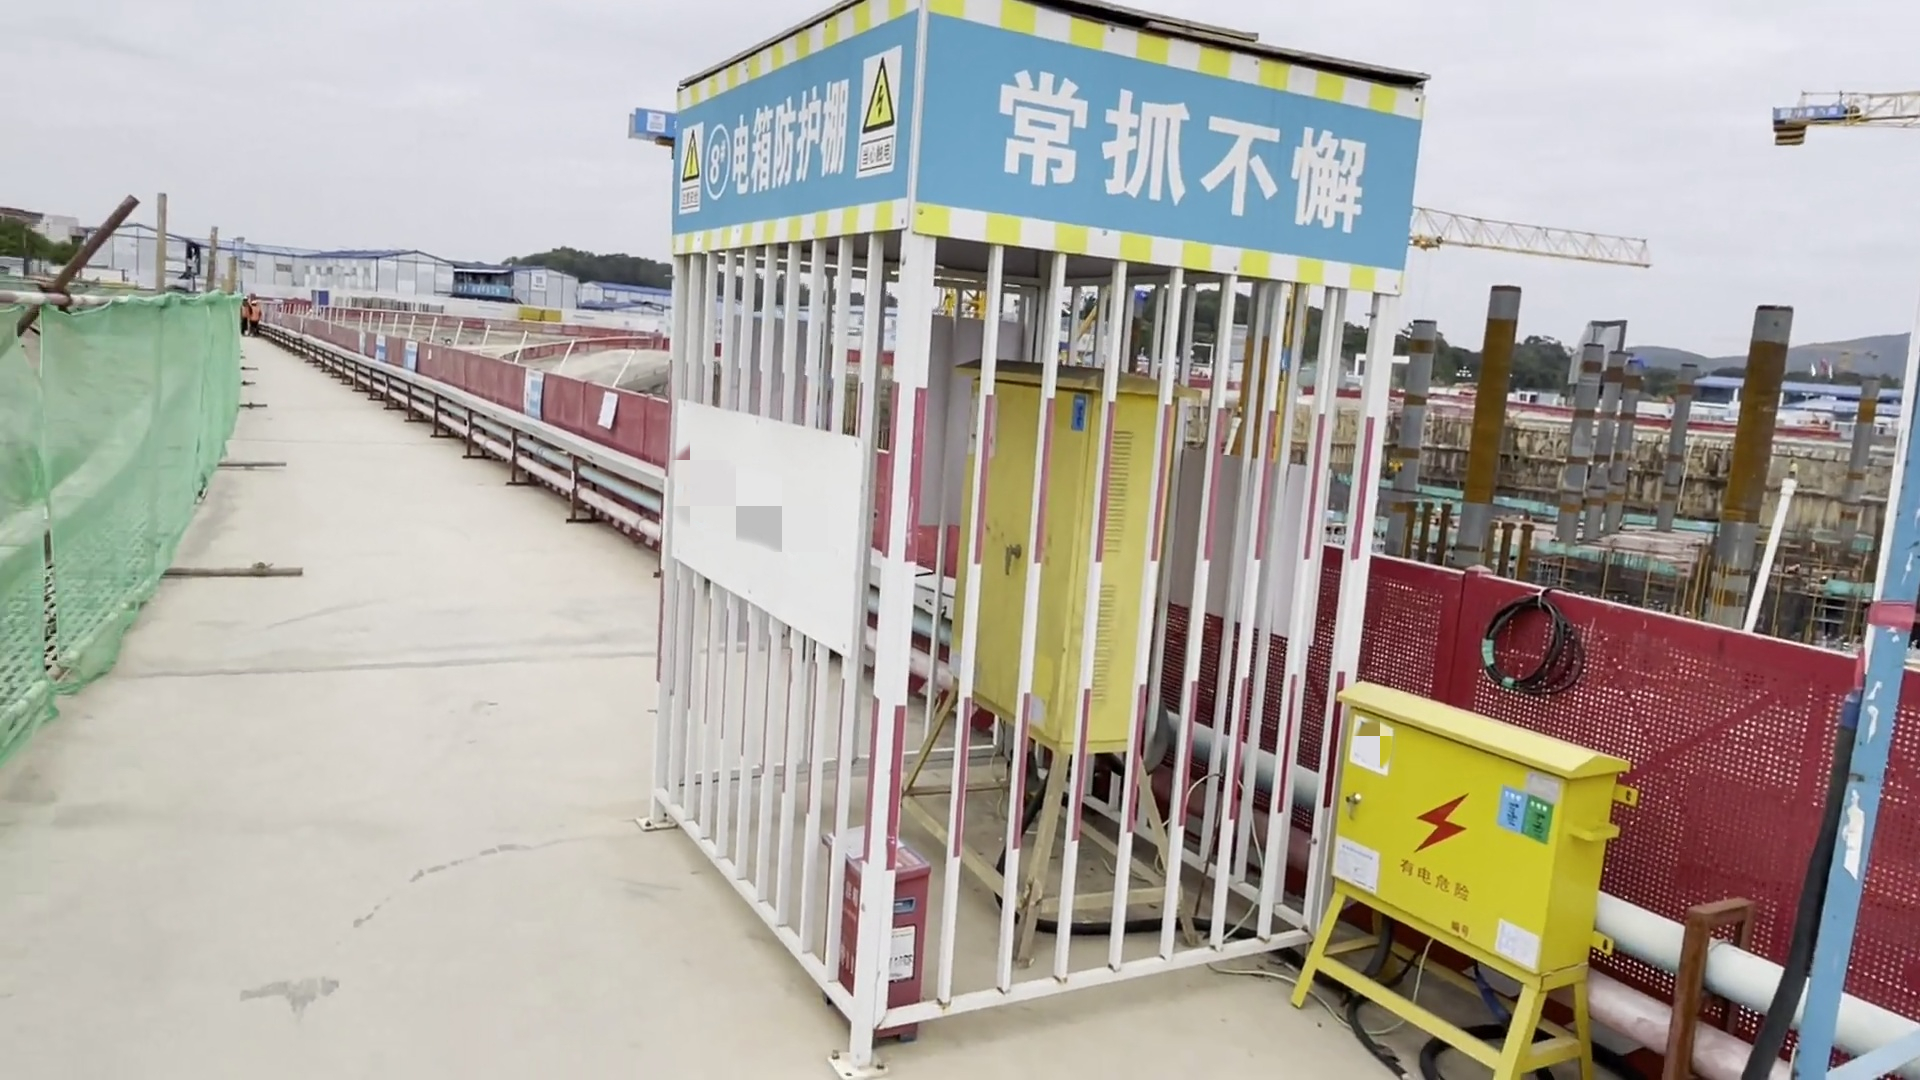ebox: (920, 349, 1213, 964), (1296, 666, 1633, 1080)
